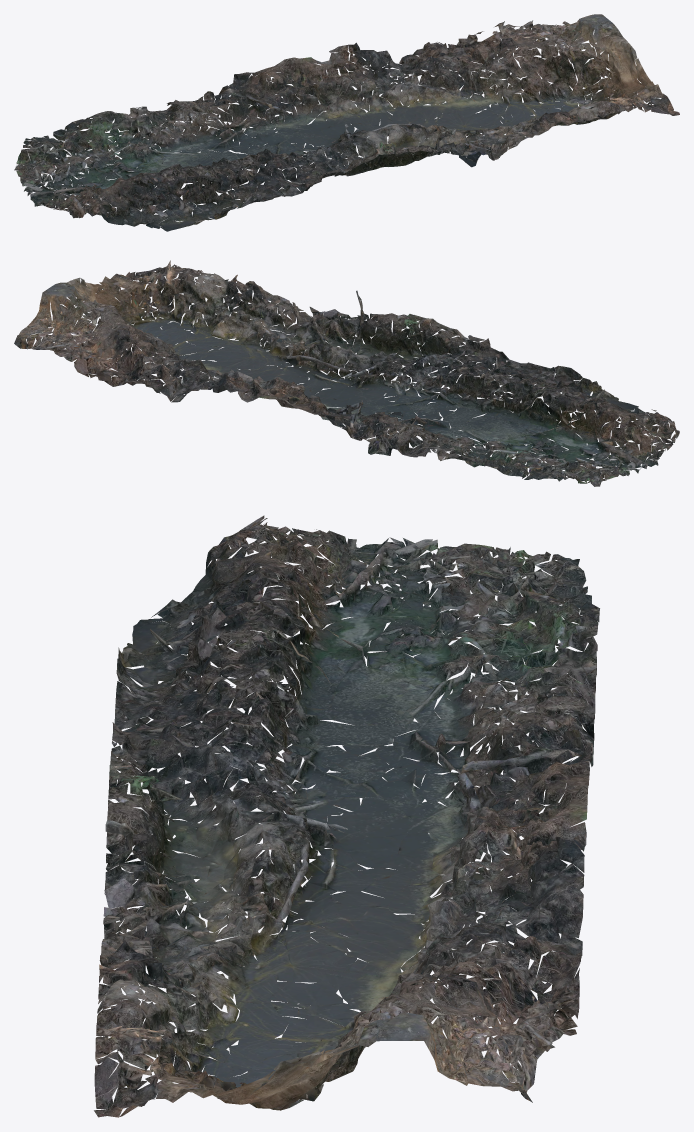
File: puddle.glb
3 views of the same model, one above another, from view 1: azimuth 30°, elevation 25°; view 2: azimuth 150°, elevation 25°; view 3: azimuth 270°, elevation 25° (orthographic). The views are drawn at different scales.
Parts seen in each view (by area): view 1: Model_material1_0, Model_material0_0, Model_material2_0; view 2: Model_material0_0, Model_material2_0, Model_material1_0; view 3: Model_material0_0, Model_material2_0, Model_material1_0.
Part boxes in pixels (box(x1,y1,x2,y2)): Model_material1_0: box(16, 19, 673, 231); Model_material0_0: box(14, 14, 679, 220); Model_material2_0: box(22, 22, 674, 228); Model_material0_0: box(33, 265, 679, 486); Model_material2_0: box(14, 261, 675, 483); Model_material1_0: box(26, 260, 679, 481); Model_material0_0: box(94, 515, 596, 1117); Model_material2_0: box(94, 518, 599, 1109); Model_material1_0: box(94, 524, 598, 1116).
Bounding box in the file's own units: 3.18 × 0.2932 × 1.19.
3 materials, 3 textured.
